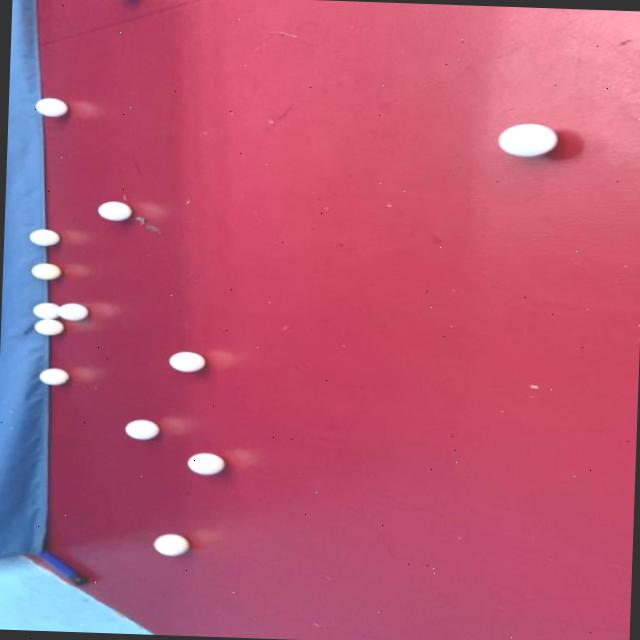ping-pong-ball: (488, 119, 568, 162), (139, 528, 198, 564), (156, 344, 213, 376), (26, 359, 80, 392), (178, 447, 232, 479), (116, 416, 170, 448), (85, 194, 138, 224), (15, 224, 68, 252), (20, 258, 70, 286), (26, 94, 70, 122), (52, 296, 96, 324), (23, 319, 68, 339), (24, 299, 61, 320), (90, 0, 153, 5)
